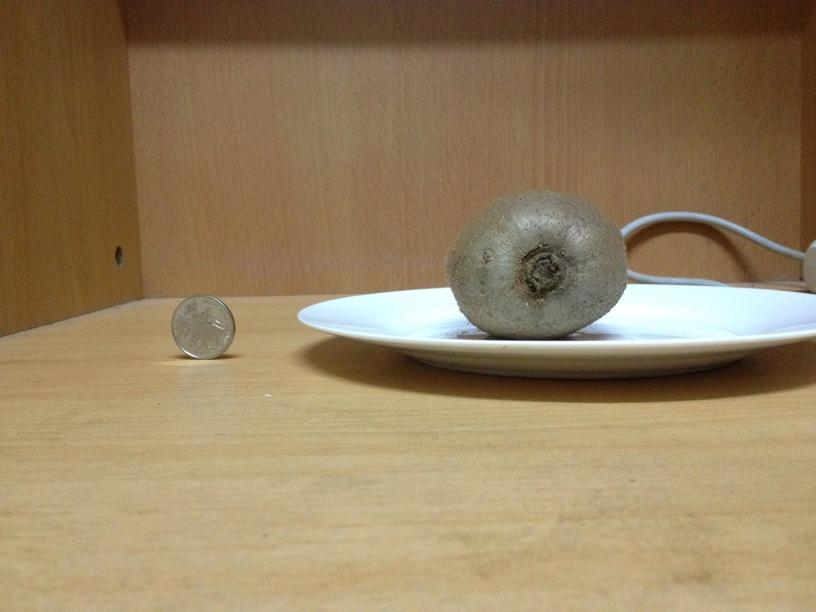coin: (170, 290, 237, 360)
qiwi: (442, 186, 631, 337)
